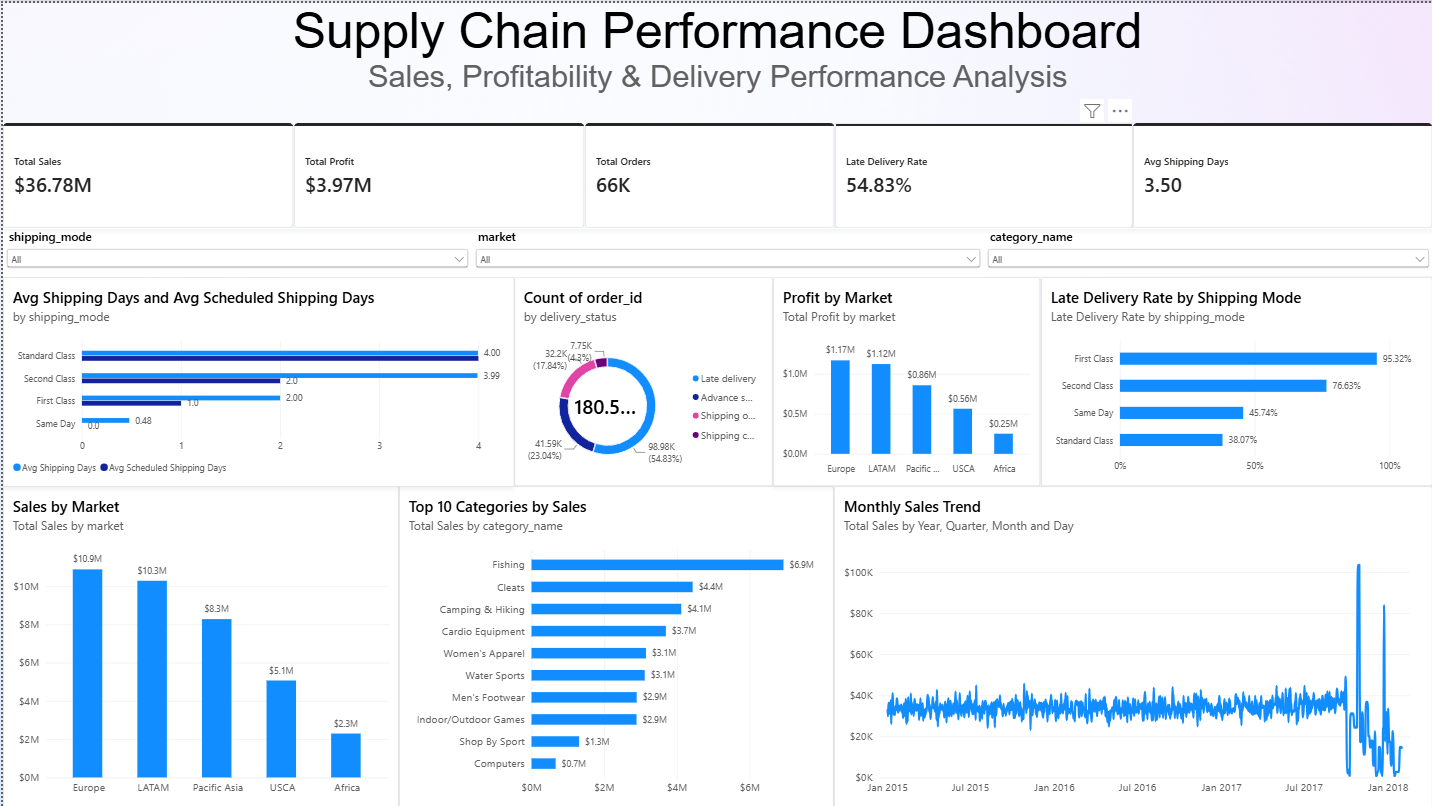

The page's visual inventory and layout, read from the dashboard file:
{"tool":"powerbi","page":{"name":"Page 1","canvas":[1920,1080],"ordinal":0},"visuals":[{"type":"donutChart","fields":{"Category":["DataCoSupplyChainDataset_cleaned.delivery_status"],"Y":["CountNonNull(DataCoSupplyChainDataset_cleaned.order_id)"]},"box":[686.8,368.2,347.8,280.5],"z":0},{"type":"clusteredBarChart","title":"Late Delivery Rate by Shipping Mode","fields":{"Category":["DataCoSupplyChainDataset_cleaned.shipping_mode"],"Y":["DataCoSupplyChainDataset_cleaned.Late Delivery Rate"]},"box":[1394,368.2,526,280.5],"z":1},{"type":"clusteredColumnChart","title":"Sales by Market","fields":{"Category":["DataCoSupplyChainDataset_cleaned.market"],"Y":["DataCoSupplyChainDataset_cleaned.Total Sales"]},"box":[0,648.8,531.9,432.5],"z":2},{"type":"clusteredBarChart","title":"Top 10 Categories by Sales","fields":{"Category":["DataCoSupplyChainDataset_cleaned.category_name"],"Y":["DataCoSupplyChainDataset_cleaned.Total Sales"]},"box":[531.9,648.8,584.5,432.5],"z":3},{"type":"clusteredColumnChart","title":"Profit by Market","fields":{"Category":["DataCoSupplyChainDataset_cleaned.market"],"Y":["DataCoSupplyChainDataset_cleaned.Total Profit"]},"box":[1034.5,368.2,359.5,280.5],"z":4},{"type":"lineChart","title":"Monthly Sales Trend","fields":{"Category":["DataCoSupplyChainDataset_cleaned.order_date_dateorders.Variation.Date Hierarchy.Year","DataCoSupplyChainDataset_cleaned.order_date_dateorders.Variation.Date Hierarchy.Quarter","DataCoSupplyChainDataset_cleaned.order_date_dateorders.Variation.Date Hierarchy.Month","DataCoSupplyChainDataset_cleaned.order_date_dateorders.Variation.Date Hierarchy.Day"],"Y":["DataCoSupplyChainDataset_cleaned.Total Sales"]},"box":[1116.3,648.8,803.7,432.5],"z":5},{"type":"slicer","fields":{"Values":["DataCoSupplyChainDataset_cleaned.shipping_mode"]},"box":[0,302.2,629.8,66.2],"z":6},{"type":"slicer","fields":{"Values":["DataCoSupplyChainDataset_cleaned.market"]},"box":[629.8,302.2,687.5,66.2],"z":7},{"type":"slicer","fields":{"Values":["DataCoSupplyChainDataset_cleaned.category_name"]},"box":[1317.2,302.5,602.8,65.2],"z":8},{"type":"cardVisual","fields":{"Data":["DataCoSupplyChainDataset_cleaned.Total Sales"]},"box":[0,160.6,391,142],"z":9},{"type":"cardVisual","fields":{"Data":["DataCoSupplyChainDataset_cleaned.Total Profit"]},"box":[391,160.6,391,142],"z":10},{"type":"cardVisual","fields":{"Data":["DataCoSupplyChainDataset_cleaned.Total Orders"]},"box":[782,160.6,335.1,142],"z":11},{"type":"cardVisual","fields":{"Data":["DataCoSupplyChainDataset_cleaned.Late Delivery Rate"]},"box":[1117.1,160.6,400.3,142],"z":12},{"type":"cardVisual","fields":{"Data":["DataCoSupplyChainDataset_cleaned.Avg Shipping Days"]},"box":[1517.4,160.6,402.6,142],"z":13},{"type":"textbox","title":"Supply Chain Performance Dashboard","box":[0,0,1920,160.6],"z":14},{"type":"clusteredBarChart","fields":{"Category":["DataCoSupplyChainDataset_cleaned.shipping_mode"],"Y":["DataCoSupplyChainDataset_cleaned.Avg Shipping Days","DataCoSupplyChainDataset_cleaned.Avg Scheduled Shipping Days"]},"box":[0,367.7,686.5,281.6],"z":15}]}

Visuals, with their boxes in screenshot pixels (x1, y1, x2, y2), scaled from the page's 1920x1080 canvas onto the 1432x806 screenshot:
donutChart - DataCoSupplyChainDataset_cleaned.delivery_status x CountNonNull(DataCoSupplyChainDataset_cleaned.order_id): {"x1": 512, "y1": 275, "x2": 772, "y2": 484}
"Late Delivery Rate by Shipping Mode" clusteredBarChart: {"x1": 1040, "y1": 275, "x2": 1431, "y2": 484}
"Sales by Market" clusteredColumnChart: {"x1": 0, "y1": 484, "x2": 397, "y2": 805}
"Top 10 Categories by Sales" clusteredBarChart: {"x1": 397, "y1": 484, "x2": 833, "y2": 805}
"Profit by Market" clusteredColumnChart: {"x1": 772, "y1": 275, "x2": 1040, "y2": 484}
"Monthly Sales Trend" lineChart: {"x1": 833, "y1": 484, "x2": 1431, "y2": 805}
slicer - DataCoSupplyChainDataset_cleaned.shipping_mode: {"x1": 0, "y1": 226, "x2": 470, "y2": 275}
slicer - DataCoSupplyChainDataset_cleaned.market: {"x1": 470, "y1": 226, "x2": 982, "y2": 275}
slicer - DataCoSupplyChainDataset_cleaned.category_name: {"x1": 982, "y1": 226, "x2": 1431, "y2": 274}
cardVisual - DataCoSupplyChainDataset_cleaned.Total Sales: {"x1": 0, "y1": 120, "x2": 292, "y2": 226}
cardVisual - DataCoSupplyChainDataset_cleaned.Total Profit: {"x1": 292, "y1": 120, "x2": 583, "y2": 226}
cardVisual - DataCoSupplyChainDataset_cleaned.Total Orders: {"x1": 583, "y1": 120, "x2": 833, "y2": 226}
cardVisual - DataCoSupplyChainDataset_cleaned.Late Delivery Rate: {"x1": 833, "y1": 120, "x2": 1132, "y2": 226}
cardVisual - DataCoSupplyChainDataset_cleaned.Avg Shipping Days: {"x1": 1132, "y1": 120, "x2": 1431, "y2": 226}
"Supply Chain Performance Dashboard" textbox: {"x1": 0, "y1": 0, "x2": 1431, "y2": 120}
clusteredBarChart - DataCoSupplyChainDataset_cleaned.shipping_mode x DataCoSupplyChainDataset_cleaned.Avg Shipping Days: {"x1": 0, "y1": 274, "x2": 512, "y2": 485}
